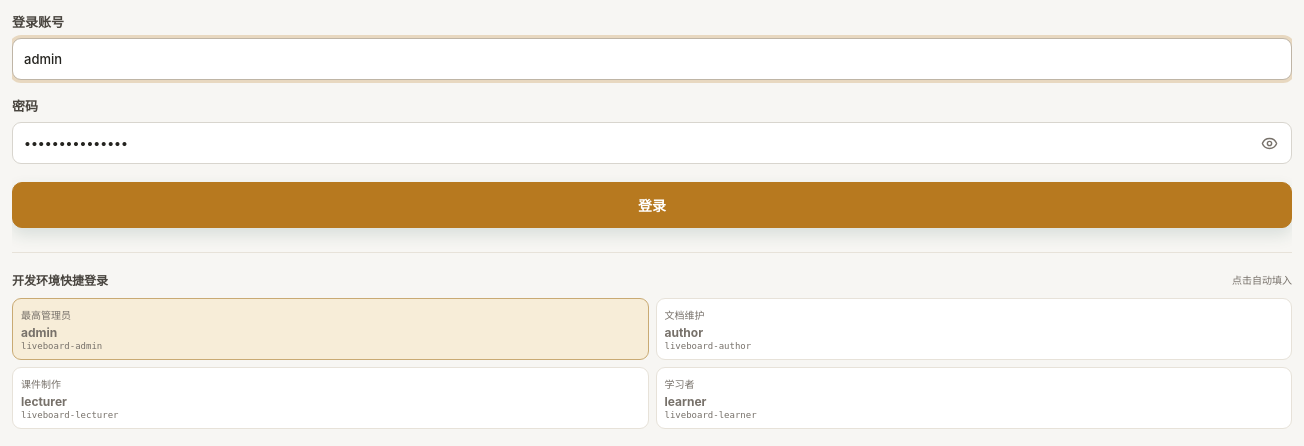
Test: LoginForm › toggles password visibility from the full toggle button
Click the button named "显示密码" at (1269, 143), box [1251,127,1287,159]
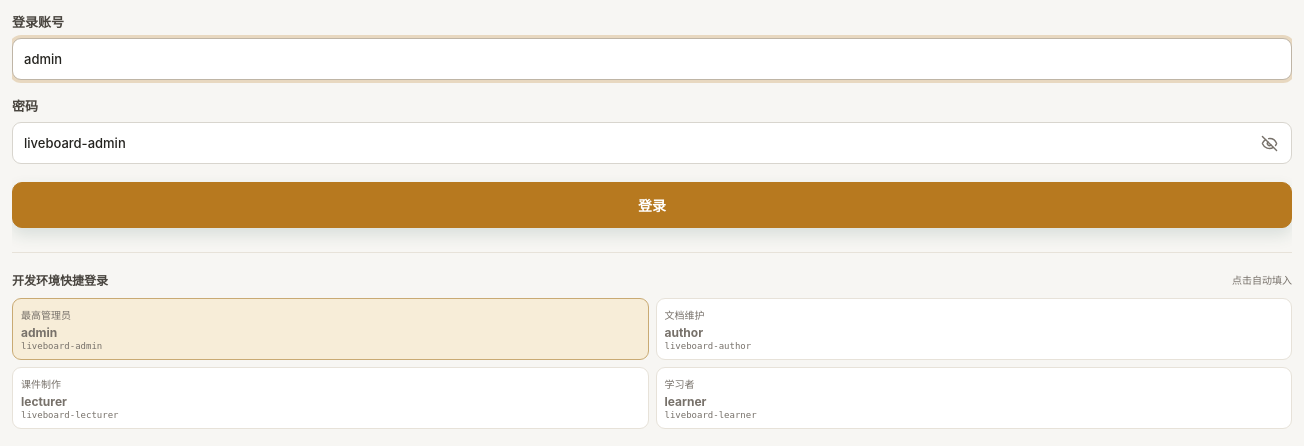
Now the field labelled "密码" shows its text, box [12,122,1292,164]
